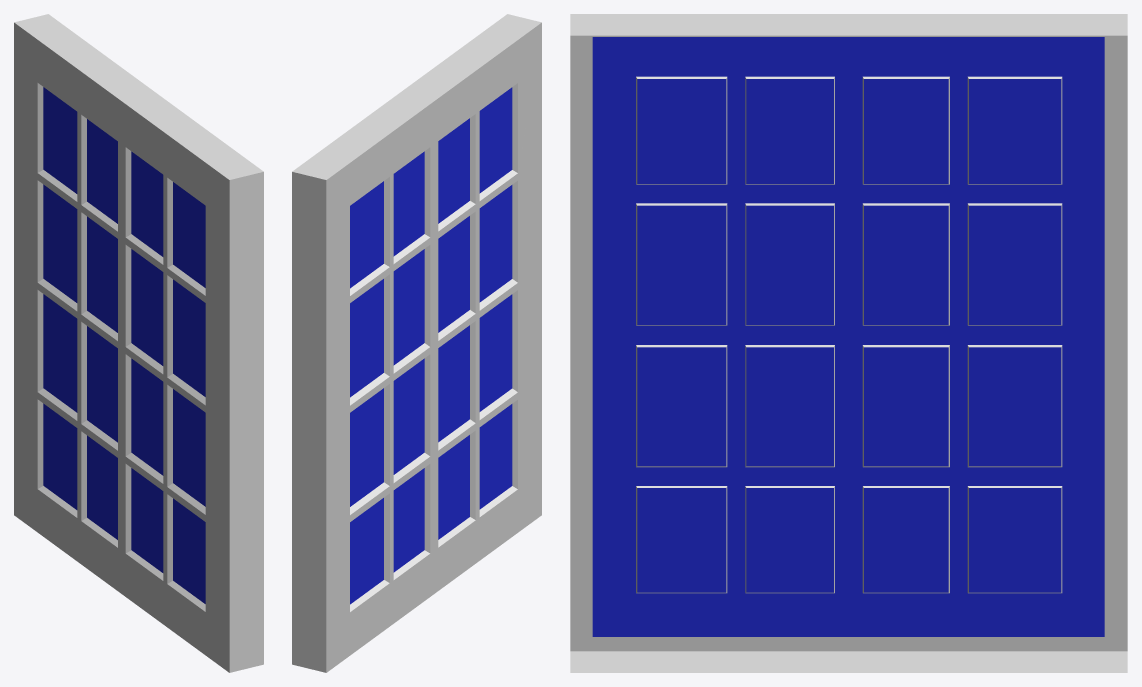
File: Window_Rustic2.fbx
3 views of the same model, side by side, from view 1: azimuth 30°, elevation 25°; view 2: azimuth 150°, elevation 25°; view 3: azimuth 270°, elevation 25° (orthographic). The views are drawn at different scales.
Parts seen in each view (by area): view 1: Fenster; view 2: Fenster; view 3: Fenster.
Boxes of the visible parts, x1=… form: Fenster: x1=14, y1=14, x2=263, y2=672; Fenster: x1=292, y1=14, x2=541, y2=672; Fenster: x1=570, y1=14, x2=1127, y2=672.
Size of the model in its own units: 5.04 by 68.82 by 54.54.
